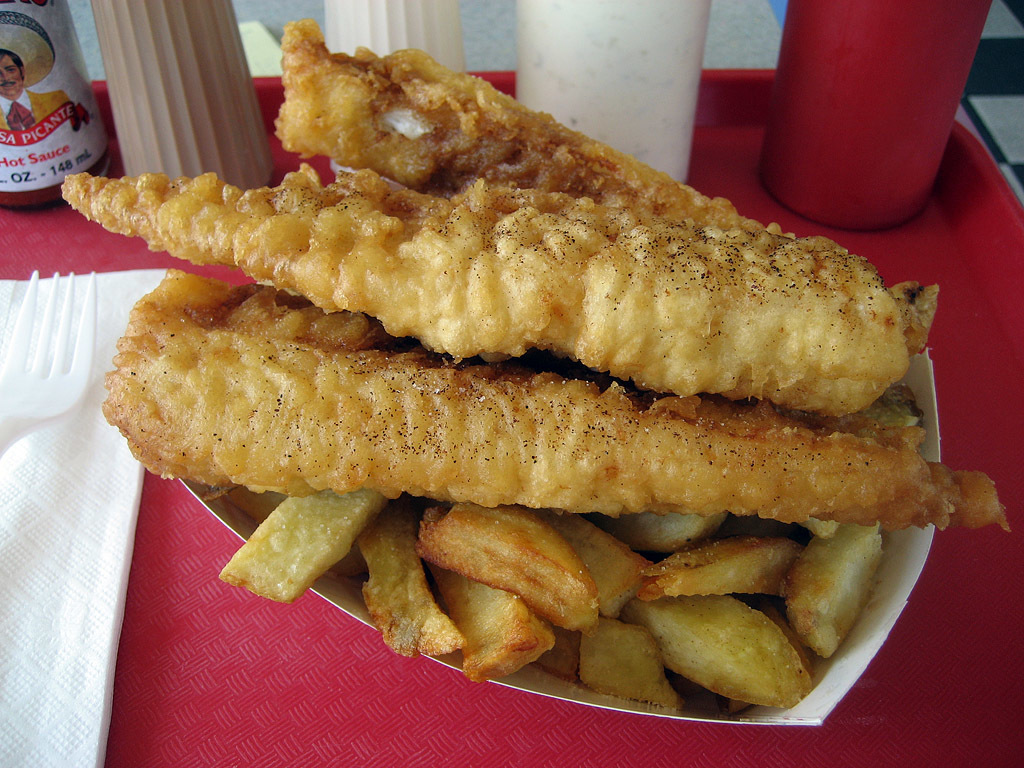French fries: (213, 465, 887, 696)
